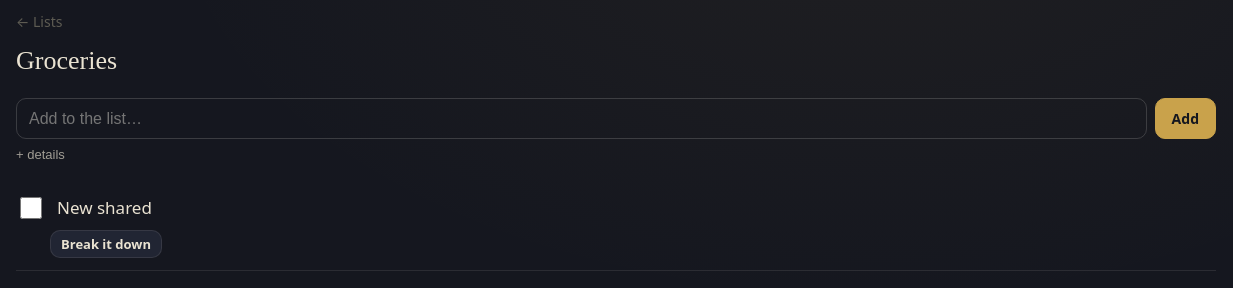
Test case: list detail — optimistic complete, rollback, breakdown polling › marks the chip failed (job lost) when the poll can't find the job
Expected: the text "New shared" is shown, x1=57 y1=195 x2=152 y2=221
Click the button with aria-label "Break down New shared": (106, 244) x1=50 y1=230 x2=162 y2=258
Wait 5000 ms
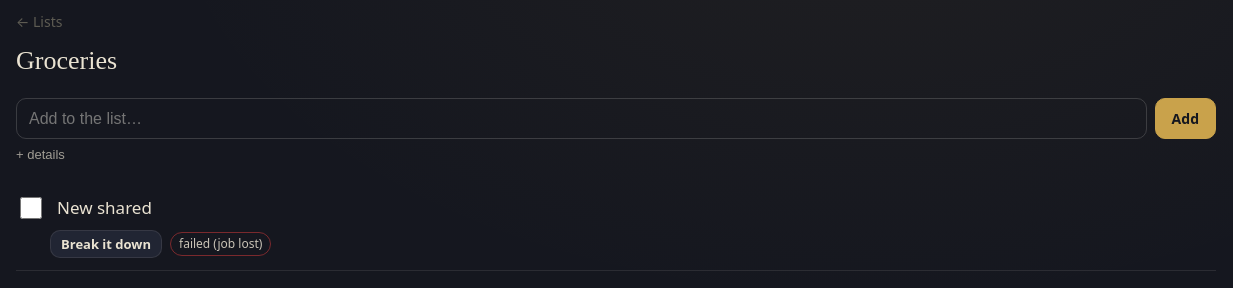
Expected: the text "failed (job lost)" is shown, x1=170 y1=232 x2=271 y2=256
